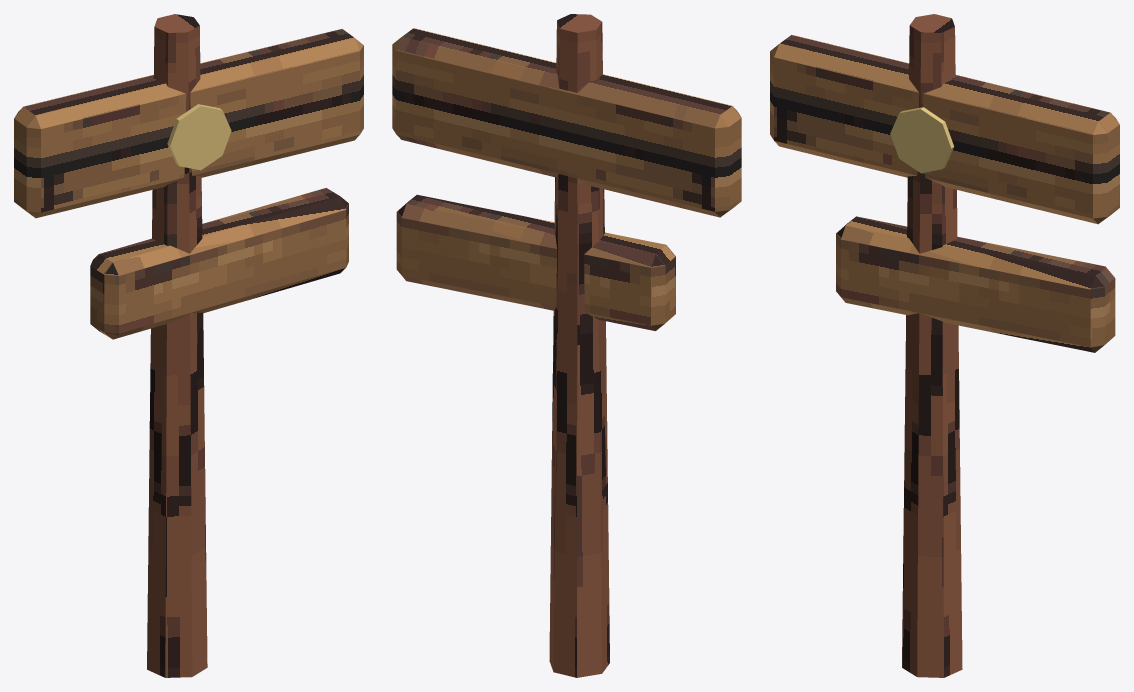
Rendered from enfeite_placa.fbx.
The picture shows the model from 3 angles, left to right: view 1: azimuth 30°, elevation 25°; view 2: azimuth 150°, elevation 25°; view 3: azimuth 330°, elevation 25°; orthographic projection.
Parts seen in each view (by area): view 1: bosque_enfeite_placa; view 2: bosque_enfeite_placa; view 3: bosque_enfeite_placa.
Part boxes in pixels (x1,y1,x2,y2): bosque_enfeite_placa: (14,14,363,677); bosque_enfeite_placa: (392,14,741,677); bosque_enfeite_placa: (770,14,1119,677).
Size of the model in its own units: 55 by 100 by 9.9.
3 materials, 2 textured.
